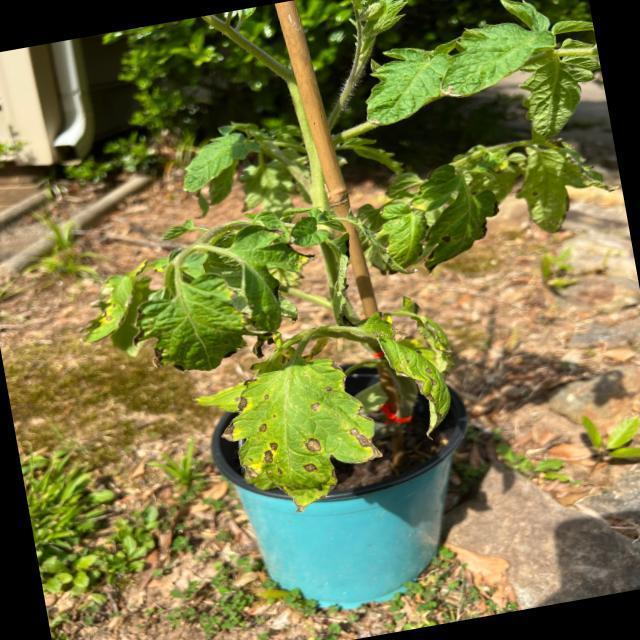Bacterial Spot: (225, 355, 388, 515), (407, 180, 513, 278)
